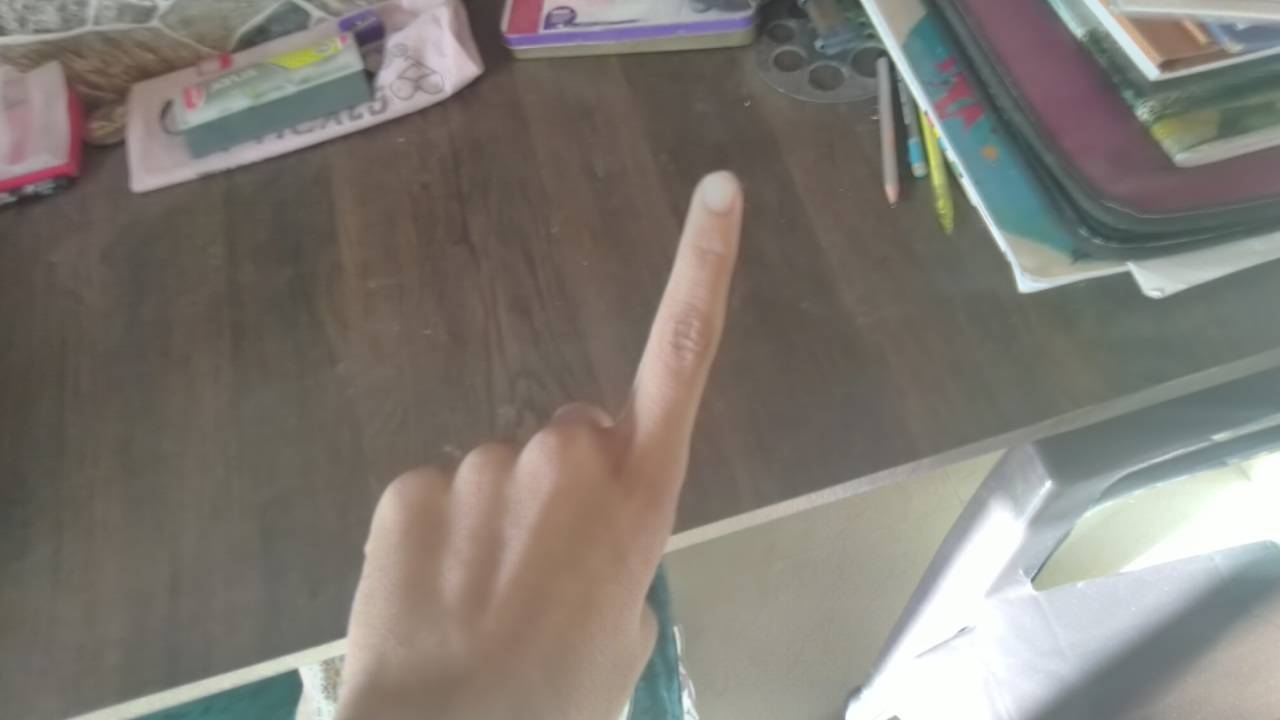fingertip: (686, 162, 754, 226)
